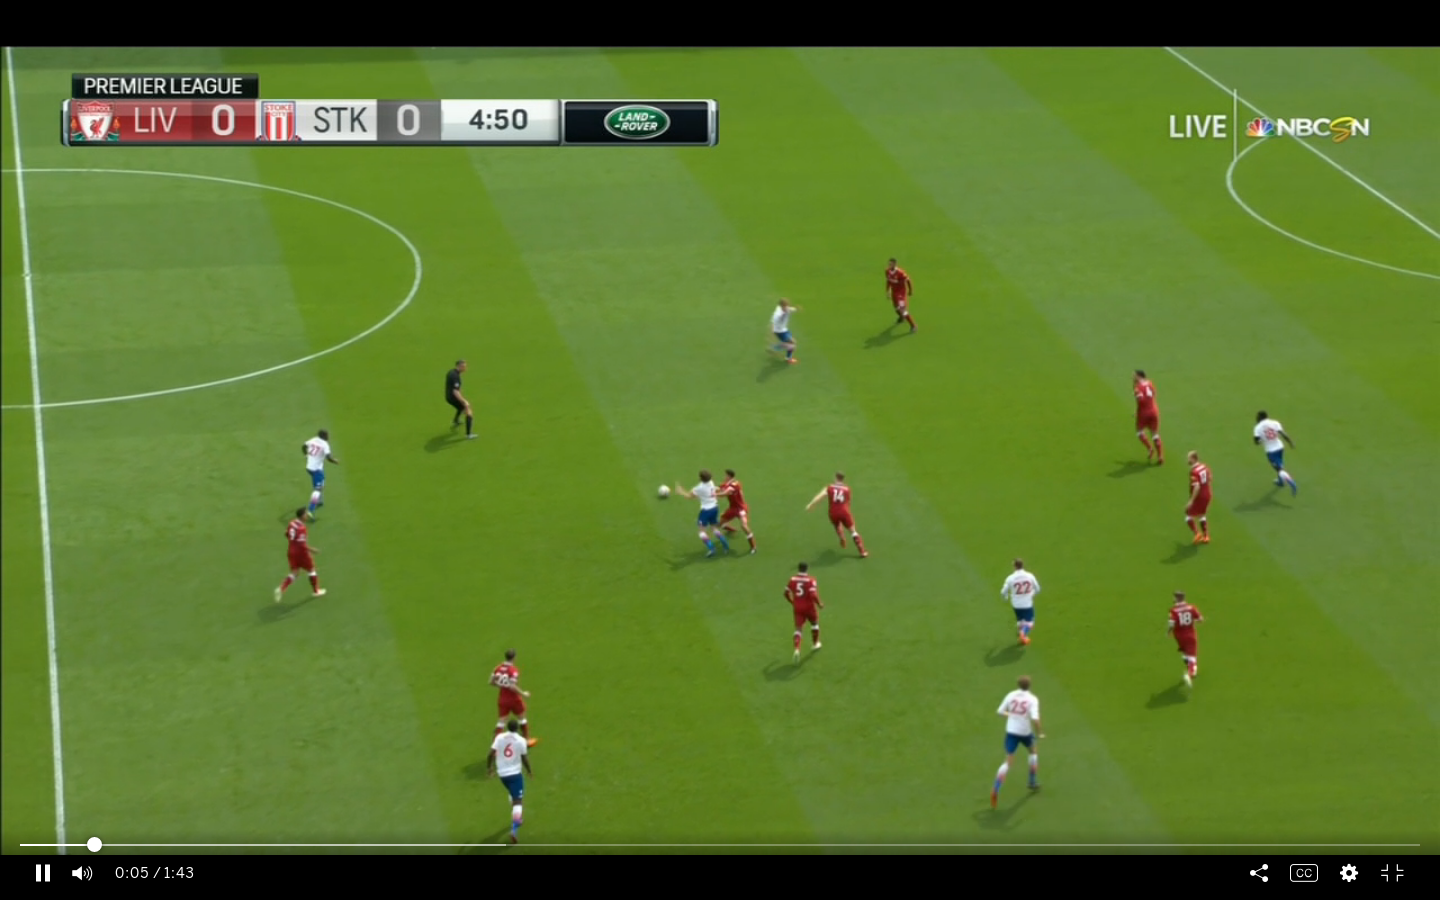referee: (436, 351, 482, 446)
soccer player: (985, 671, 1047, 819), (484, 719, 545, 846), (801, 471, 875, 559), (1248, 406, 1315, 503), (718, 466, 775, 559), (485, 646, 536, 751), (270, 509, 324, 605), (1162, 585, 1207, 699), (1128, 362, 1173, 472), (999, 559, 1044, 657), (784, 559, 825, 659), (293, 425, 336, 517), (876, 257, 925, 336), (687, 465, 725, 562), (1179, 449, 1213, 549), (767, 292, 805, 372)
soccerball: (656, 477, 675, 505)
